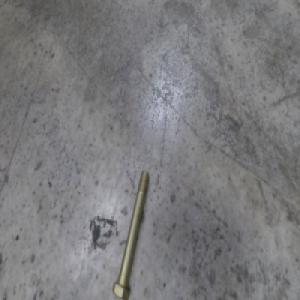Bolt: (112, 165, 148, 299)
